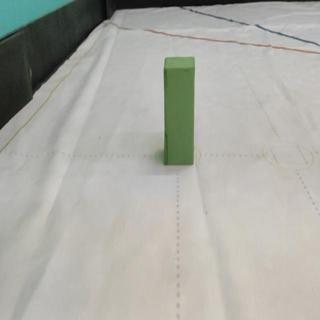greenbox: (161, 55, 197, 166)
